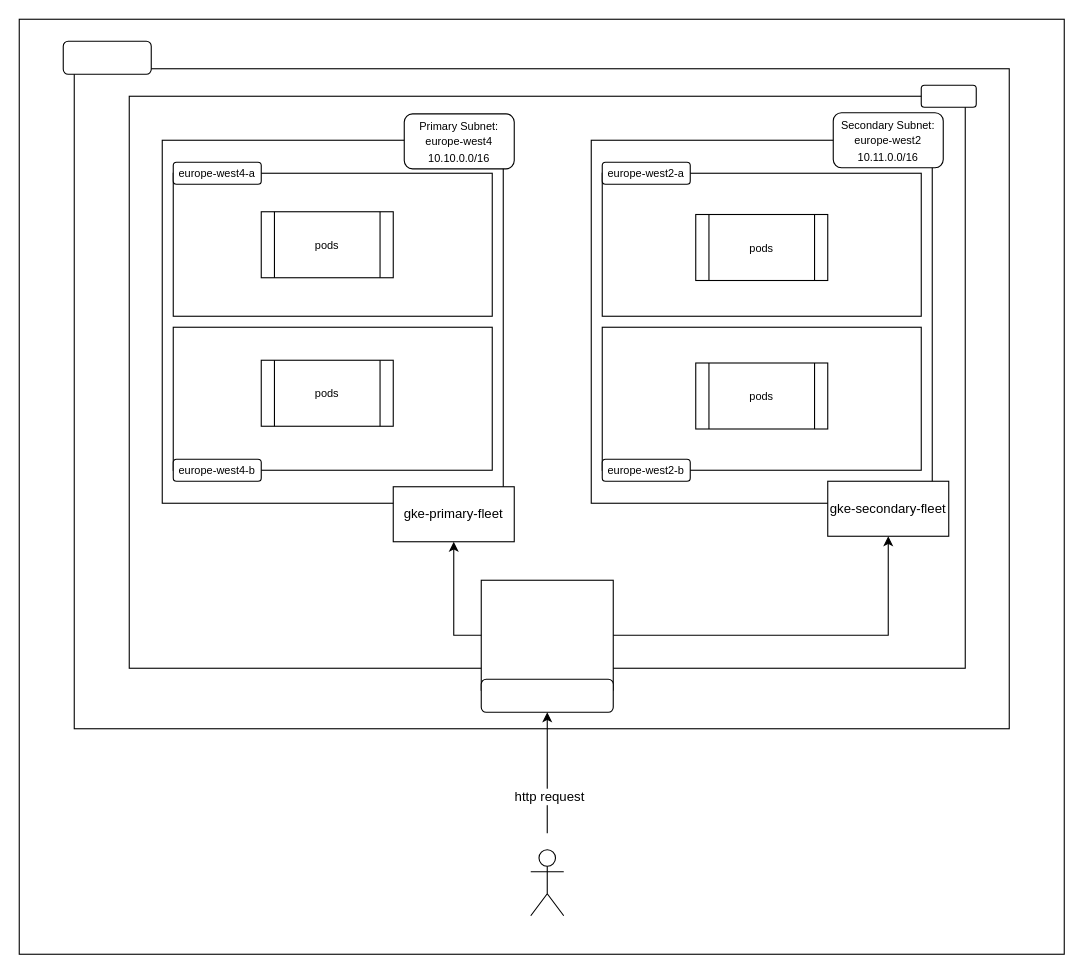
This 1084x974 diagram has some shape labels left out. The shapes that lost their labels are listed below. From the top down, each one's centre as x and y in pixels, then its label:
point (106, 57): GCP Project
point (948, 95): VPC
point (546, 634): Multi Cluster Ingress
point (546, 695): VIP_IP_ADDRESS
point (547, 882): Client
